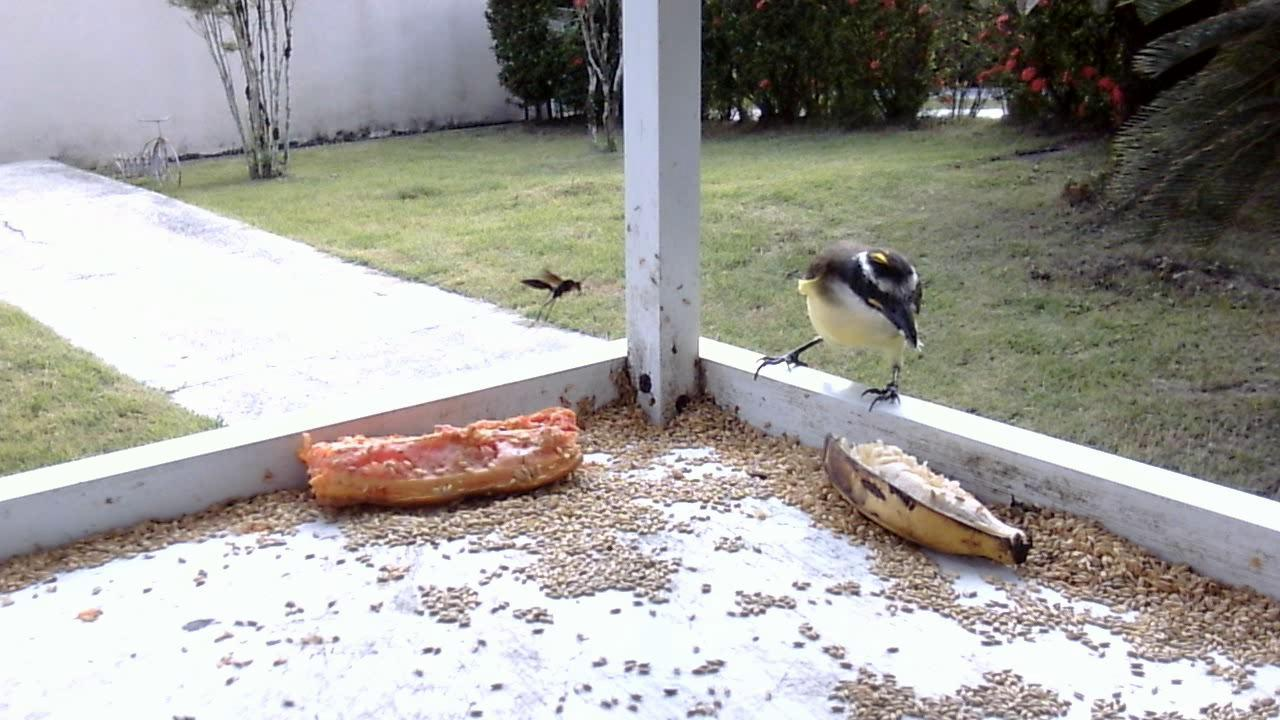bem_te_vi: (751, 239, 930, 409)
